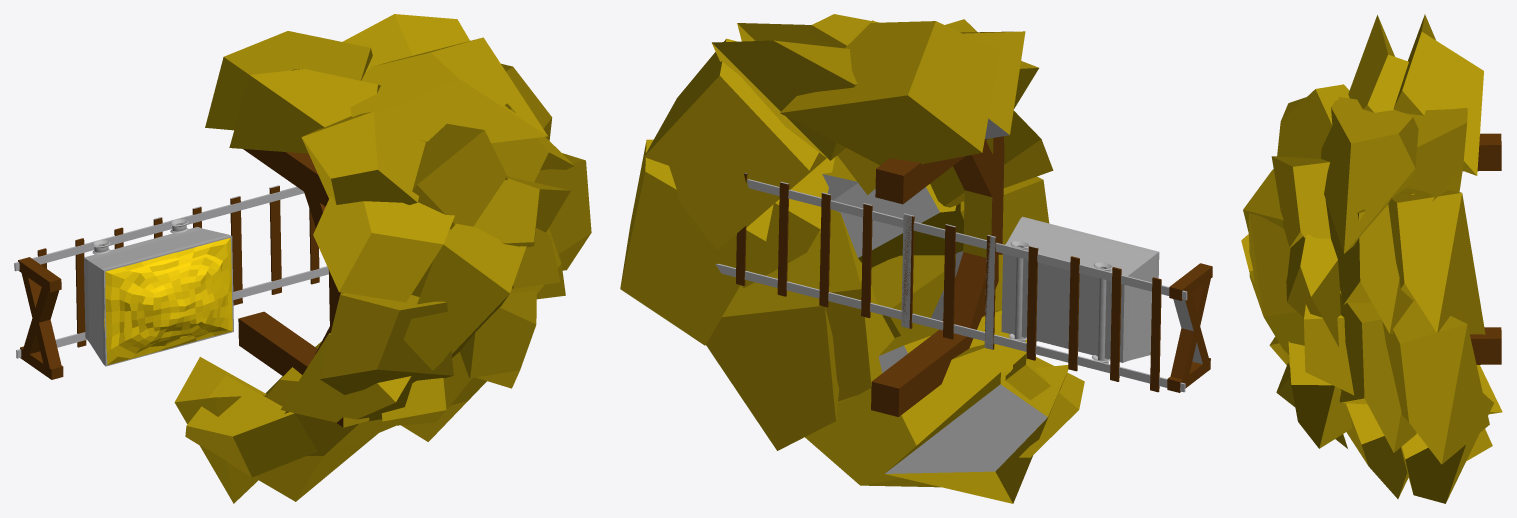
The model's file is Шахта4Origin.fbx.
The picture shows the model from 3 angles, left to right: view 1: azimuth 30°, elevation 25°; view 2: azimuth 150°, elevation 25°; view 3: azimuth 270°, elevation 25°; orthographic projection. The views are drawn at different scales.
Visible parts, largest first — view 1: Шахта4; view 2: Шахта4; view 3: Шахта4.
Boxes of the visible parts, x1,y1,x2,y2 form: Шахта4: (14, 14, 591, 503); Шахта4: (620, 14, 1212, 503); Шахта4: (1241, 14, 1502, 503).
Size of the model in its own units: 2.49 by 1.96 by 1.08.
